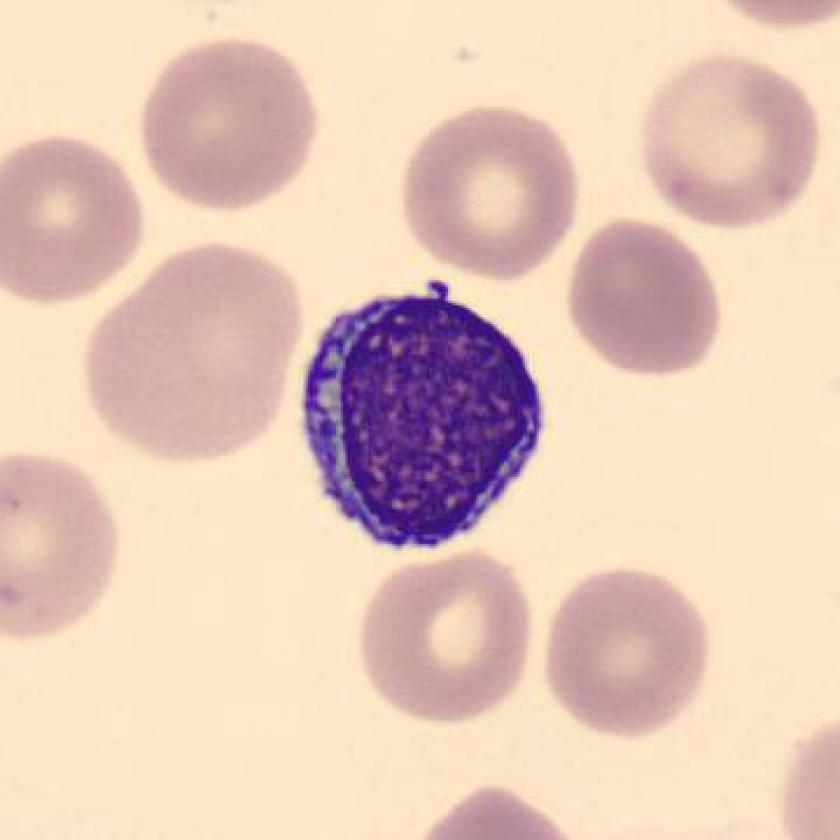lymphocyte: (291, 272, 564, 568)
